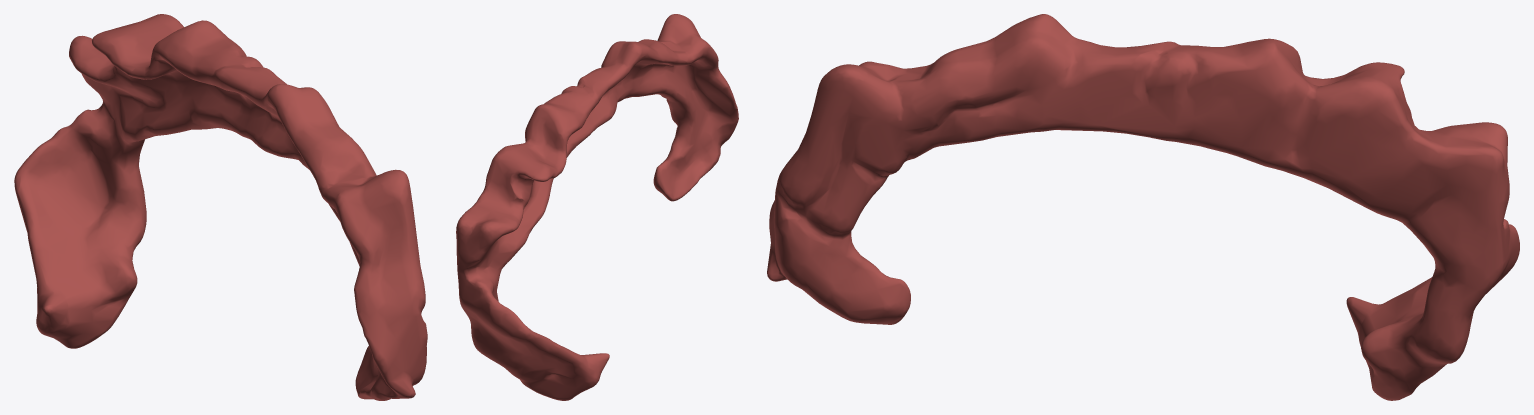
The model's file is FMA72717.glb.
The picture shows the model from 3 angles, left to right: view 1: azimuth 30°, elevation 25°; view 2: azimuth 150°, elevation 25°; view 3: azimuth 270°, elevation 25°; orthographic projection. The views are drawn at different scales.
Parts seen in each view (by area): view 1: FMA72717; view 2: FMA72717; view 3: FMA72717.
Boxes of the visible parts, x1,y1,x2,y2 form: FMA72717: (14,14,427,400); FMA72717: (456,14,738,400); FMA72717: (767,14,1519,400).
Size of the model in its own units: 0.0269 by 0.0631 by 0.1053.
